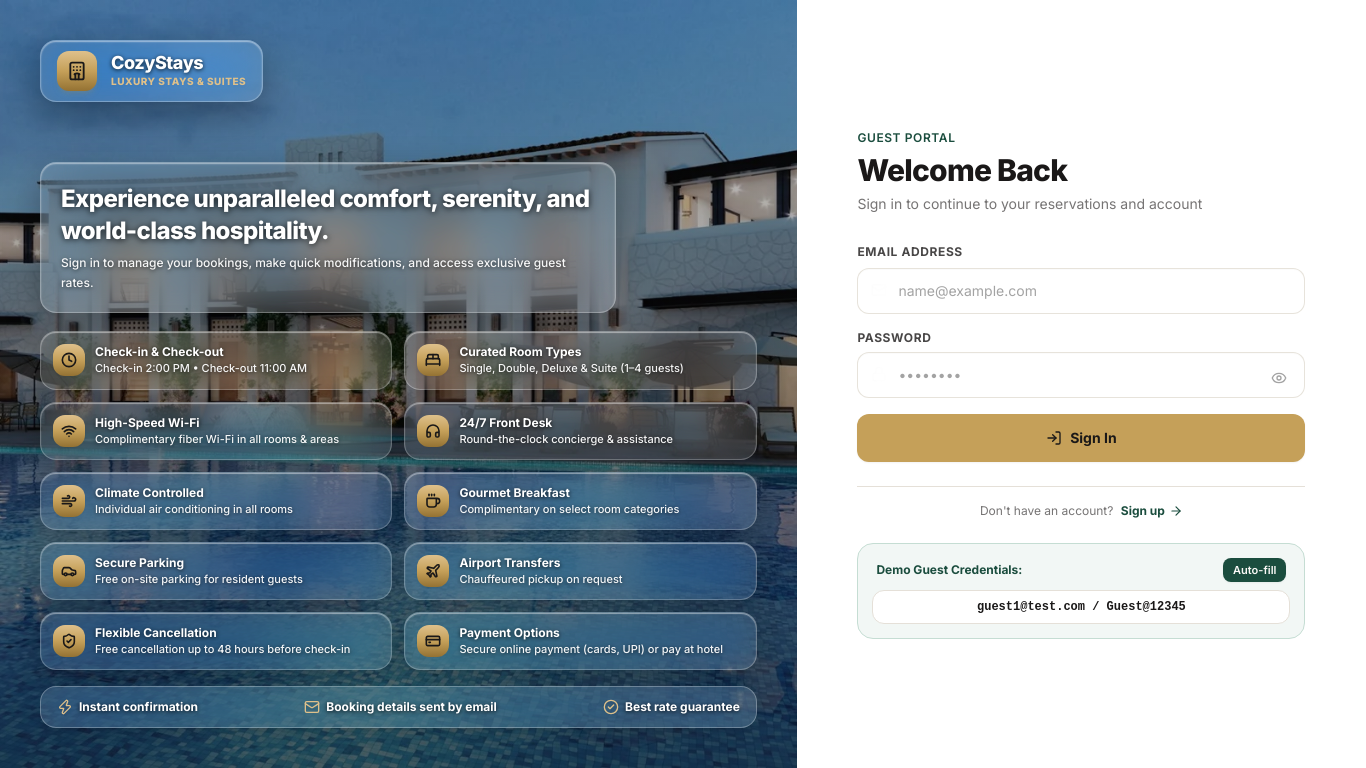
Login Page › renders Guest 1 demo credentials and auto-fills on click
Expected: the text "Demo Guest Credentials:" is shown, [876,562,1022,578]
Expected: the text "guest1@test.com / Guest@12345" is shown, [872,590,1290,624]
Click the button "Auto-fill" at (1255,570), box [1223,558,1286,582]
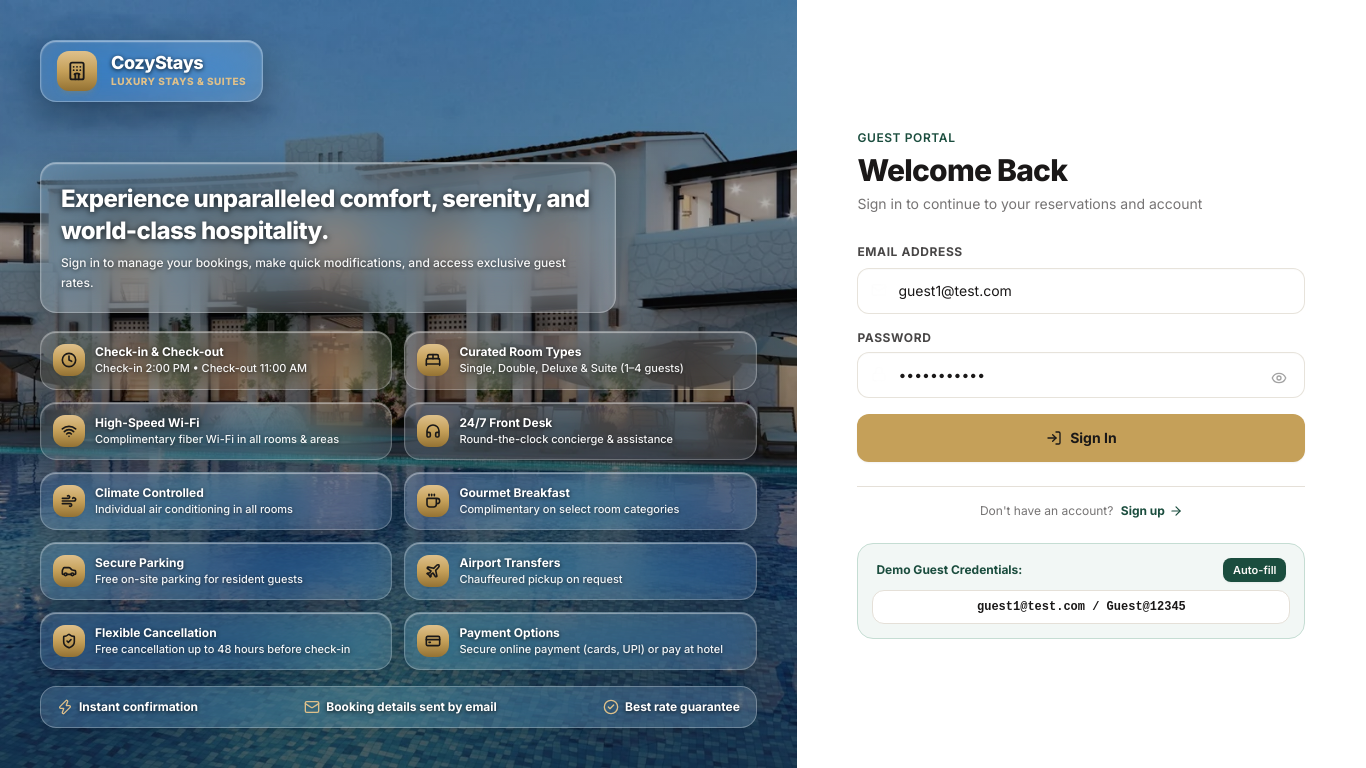
Now the field labelled "Email Address" holds "guest1@test.com", box [857,268,1305,314]
Now the password field labelled "Password" holds "Guest@12345", box [857,352,1305,398]
